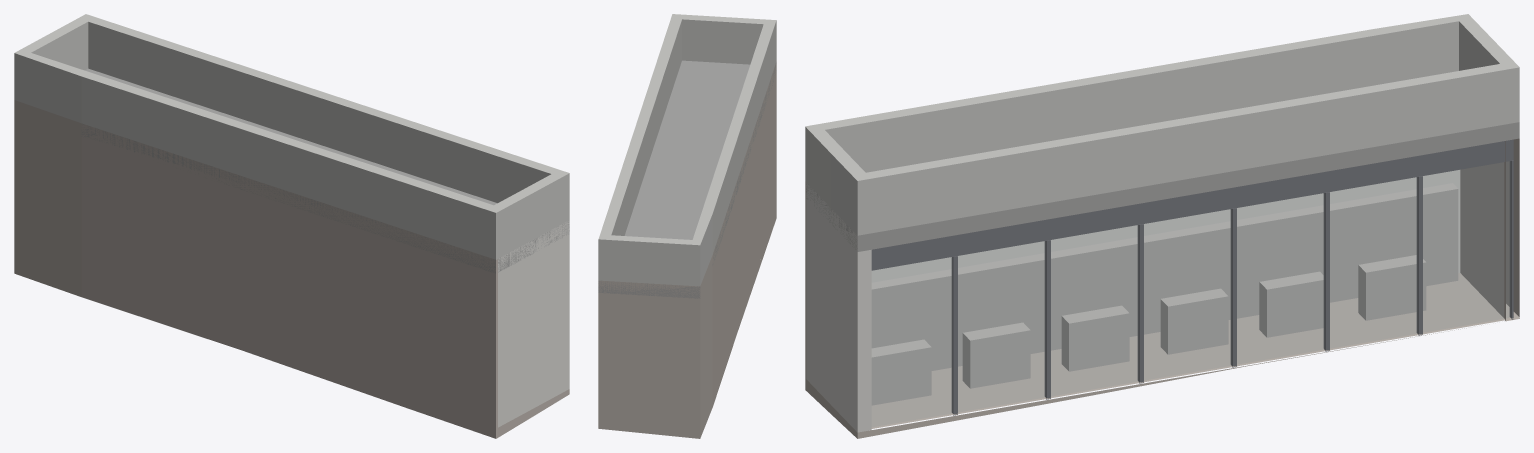
Rendered from d22-kiosk.glb.
The picture shows the model from 3 angles, left to right: view 1: azimuth 30°, elevation 25°; view 2: azimuth 150°, elevation 25°; view 3: azimuth 270°, elevation 25°; orthographic projection. The views are drawn at different scales.
Visible parts, largest first — view 1: group0_d22_district_source_wall_palette_0; view 2: group0_d22_district_source_wall_palette_0; view 3: group0_d22_district_source_wall_palette_0, group1_clear, group2_d22_district_source_interior_palette_1.
Boxes of the visible parts, x1=… form: group0_d22_district_source_wall_palette_0: x1=14, y1=14, x2=569, y2=438; group0_d22_district_source_wall_palette_0: x1=598, y1=14, x2=776, y2=438; group0_d22_district_source_wall_palette_0: x1=805, y1=14, x2=1519, y2=438; group1_clear: x1=872, y1=161, x2=1510, y2=426; group2_d22_district_source_interior_palette_1: x1=871, y1=170, x2=1460, y2=282.
Bounding box in the file's own units: 6.55 × 4.82 × 11.84.
Materials: 4 (1 with a texture image).
